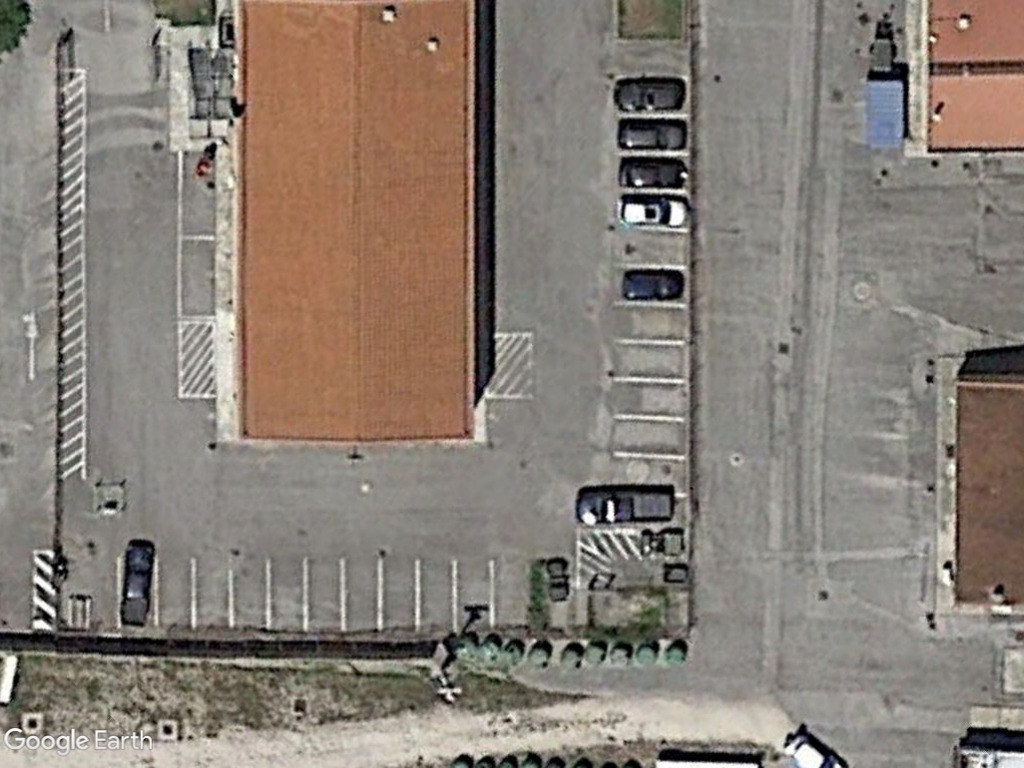car: (613, 193, 694, 231), (609, 77, 688, 114), (618, 156, 691, 191), (617, 118, 692, 151), (620, 268, 687, 303)
other: (575, 484, 677, 526), (116, 536, 159, 628)
